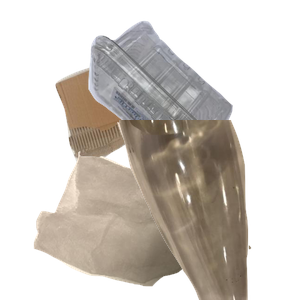cardboard: (53, 45, 221, 204)
glass: (115, 120, 300, 300)
plastic: (86, 18, 300, 171)
trash: (31, 149, 268, 300)
